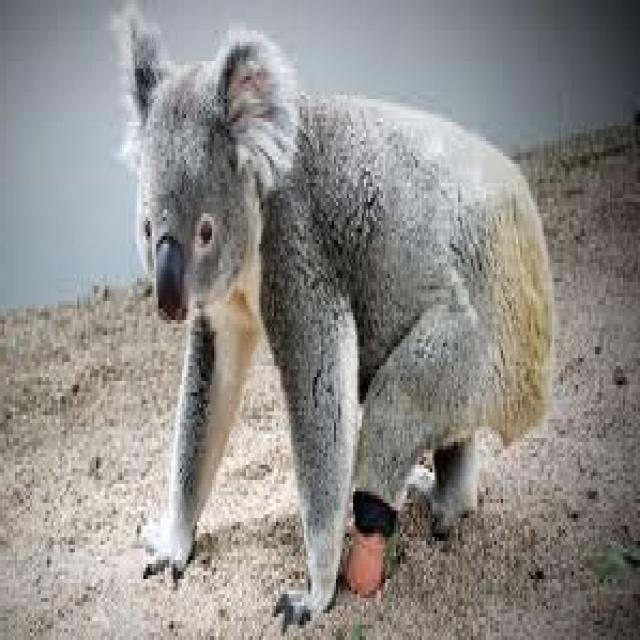koala: (131, 19, 554, 617)
